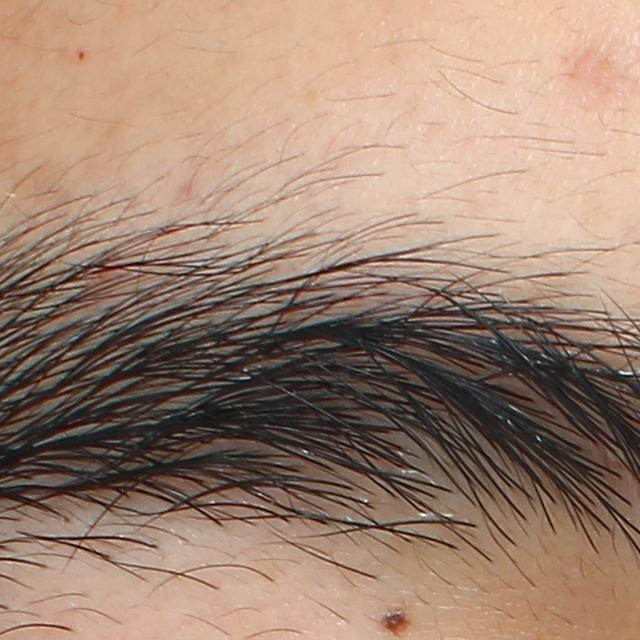nevus: (378, 599, 409, 635)
